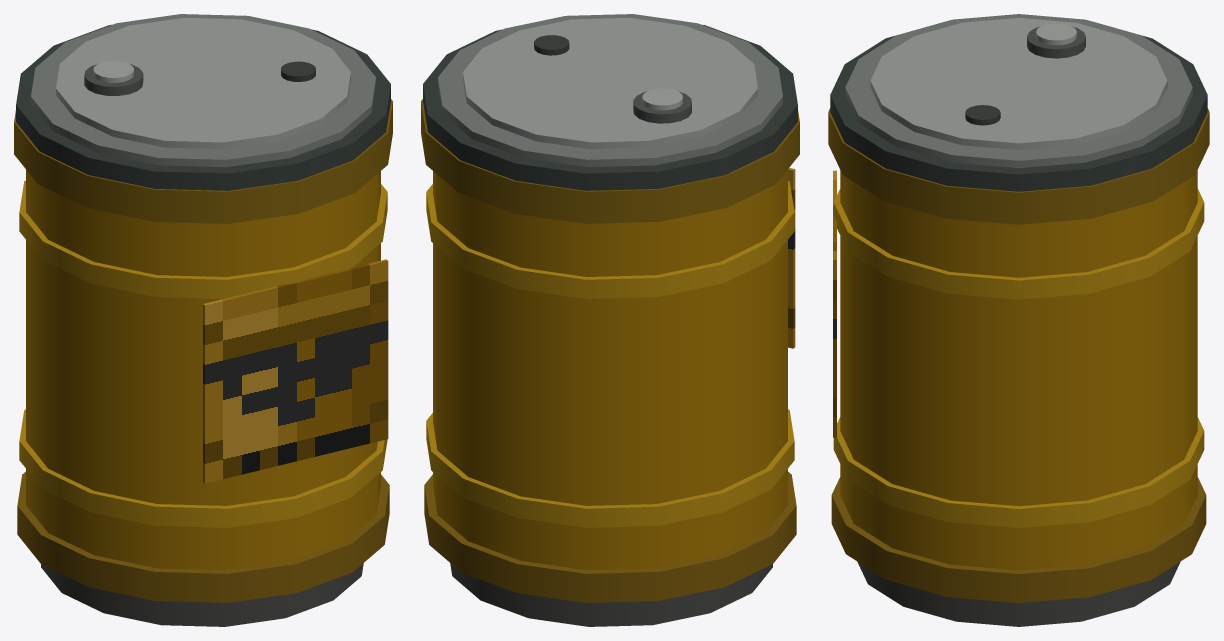
File: CMU3DRMCBarrelYellow.glb
The picture shows the model from 3 angles, left to right: view 1: azimuth 30°, elevation 25°; view 2: azimuth 150°, elevation 25°; view 3: azimuth 270°, elevation 25°; orthographic projection.
Visible parts, largest first — view 1: painted steel drum, Label source artwork, lid raised center, pressed drum hoop (×2), lower metal band, upper colored band, steel lid, steel lid rim, bottom rolled rim, large bung surround, large bung cap, small bung; view 2: painted steel drum, lid raised center, pressed drum hoop (×2), lower metal band, upper colored band, steel lid, steel lid rim, bottom rolled rim, Label source artwork, large bung surround, large bung cap, small bung; view 3: painted steel drum, lid raised center, pressed drum hoop (×2), lower metal band, upper colored band, steel lid, steel lid rim, bottom rolled rim, Label source artwork, large bung surround, large bung cap, small bung.
Part boxes in pixels (x1,y1,x2,y2): painted steel drum: [26, 170, 380, 570]; Label source artwork: [203, 259, 388, 483]; lid raised center: [56, 17, 350, 149]; pressed drum hoop (×2): [19, 180, 387, 527]; lower metal band: [17, 472, 389, 602]; upper colored band: [14, 99, 392, 223]; steel lid: [31, 14, 375, 167]; steel lid rim: [16, 24, 390, 190]; bottom rolled rim: [41, 563, 363, 626]; large bung surround: [84, 64, 143, 95]; large bung cap: [93, 61, 133, 82]; small bung: [281, 61, 315, 81]; painted steel drum: [433, 170, 787, 570]; lid raised center: [463, 17, 757, 149]; pressed drum hoop (×2): [426, 180, 794, 527]; lower metal band: [424, 472, 796, 602]; upper colored band: [421, 99, 799, 223]; steel lid: [438, 14, 782, 167]; steel lid rim: [423, 24, 797, 190]; bottom rolled rim: [450, 563, 772, 626]; Label source artwork: [788, 167, 795, 348]; large bung surround: [633, 91, 691, 123]; large bung cap: [642, 88, 682, 110]; small bung: [534, 35, 569, 55]; painted steel drum: [840, 170, 1197, 570]; lid raised center: [870, 18, 1167, 149]; pressed drum hoop (×2): [833, 189, 1204, 527]; lower metal band: [831, 477, 1206, 602]; upper colored band: [828, 108, 1209, 224]; steel lid: [845, 14, 1192, 168]; steel lid rim: [830, 35, 1207, 191]; bottom rolled rim: [857, 561, 1180, 626]; Label source artwork: [833, 170, 836, 437]; large bung surround: [1027, 26, 1085, 58]; large bung cap: [1036, 23, 1076, 45]; small bung: [965, 105, 1000, 125].
Size of the model in its own units: 0.56 by 0.796 by 0.56.
12 materials, 1 textured.
